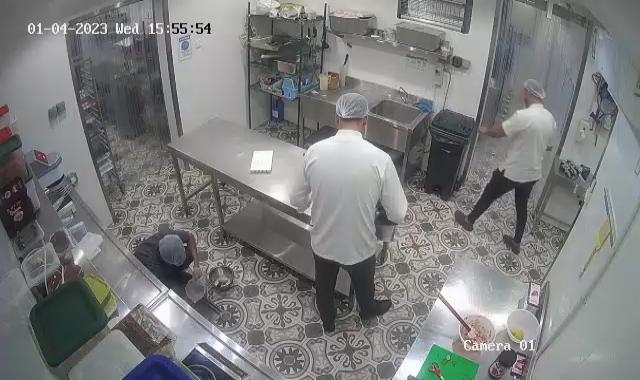hairnet: (334, 93, 370, 124), (522, 76, 546, 102)
